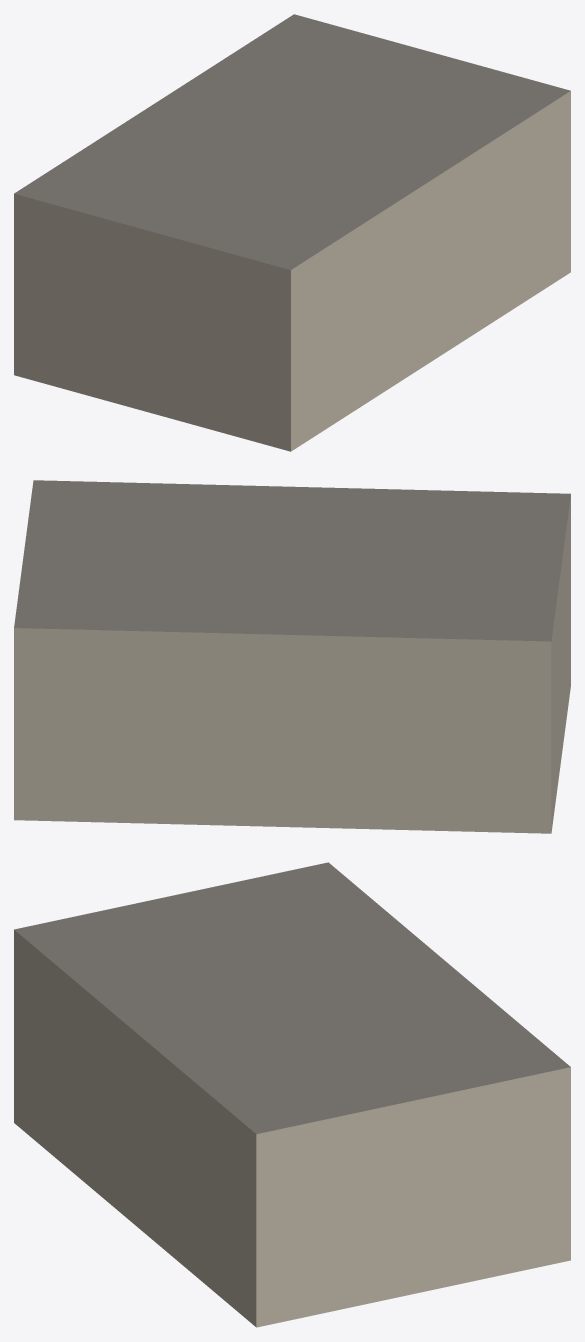
3 renders of one model, top to bottom at view 1: azimuth 30°, elevation 25°; view 2: azimuth 150°, elevation 25°; view 3: azimuth 270°, elevation 25°, orthographic. The views are drawn at different scales.
Visible parts, largest first — view 1: HP-w1544735759; view 2: HP-w1544735759; view 3: HP-w1544735759.
Boxes of the visible parts, <box> form: HP-w1544735759: <box>14,14,570,451</box>; HP-w1544735759: <box>14,480,570,833</box>; HP-w1544735759: <box>14,862,570,1327</box>.
Size of the model in its own units: 54.27 by 18 by 46.99.
